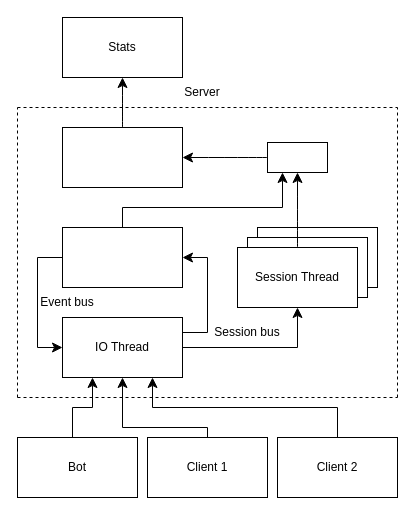
Image size: 416x515. Some labels were removed from this diagram. Each missing label, with the centre of its shape:
"Log" belongs at point (122, 157).
"MPSC" belongs at point (297, 157).
"Session Manager" belongs at point (122, 257).
